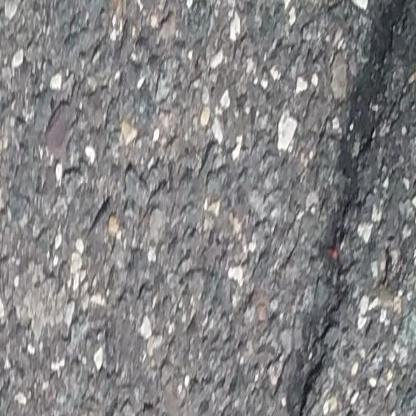Cracks: (281, 0, 388, 416)
